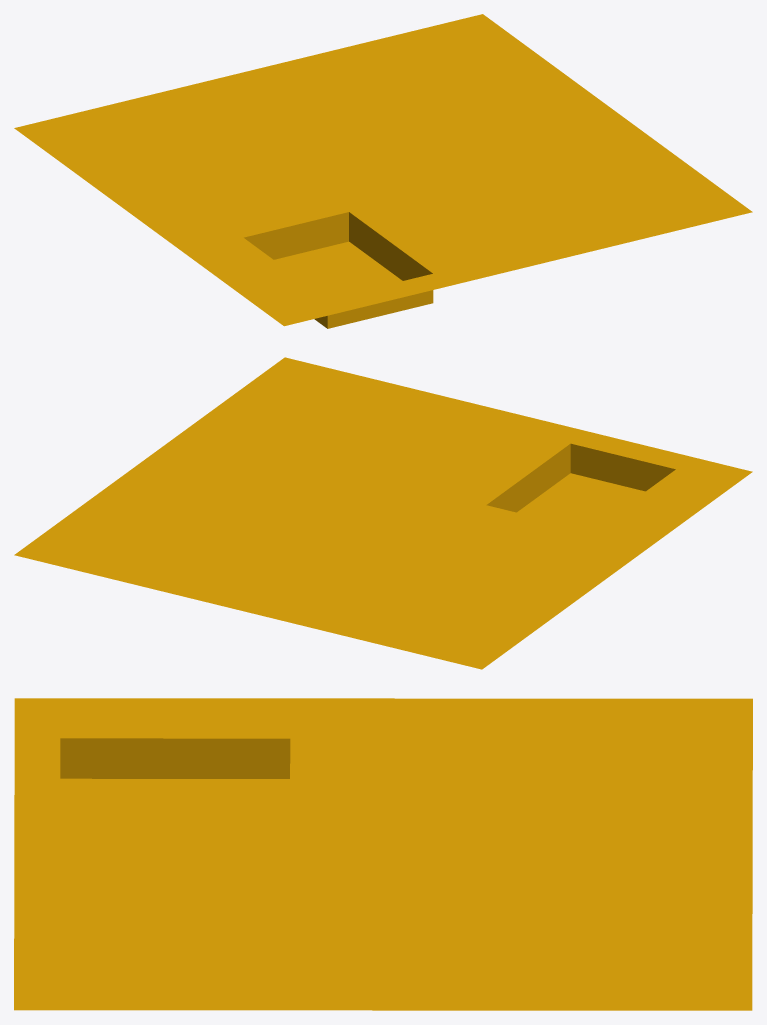
The model's file is lava.fbx.
3 views of the same model, one above another, from view 1: azimuth 30°, elevation 25°; view 2: azimuth 150°, elevation 25°; view 3: azimuth 270°, elevation 25° (orthographic). The views are drawn at different scales.
Parts seen in each view (by area): view 1: lava; view 2: lava; view 3: lava.
Part boxes in pixels (x1,y1,x2,y2): lava: (14,14,752,328); lava: (14,357,752,669); lava: (14,698,752,1010).
Size of the model in its own units: 16486 by 994 by 16486.
